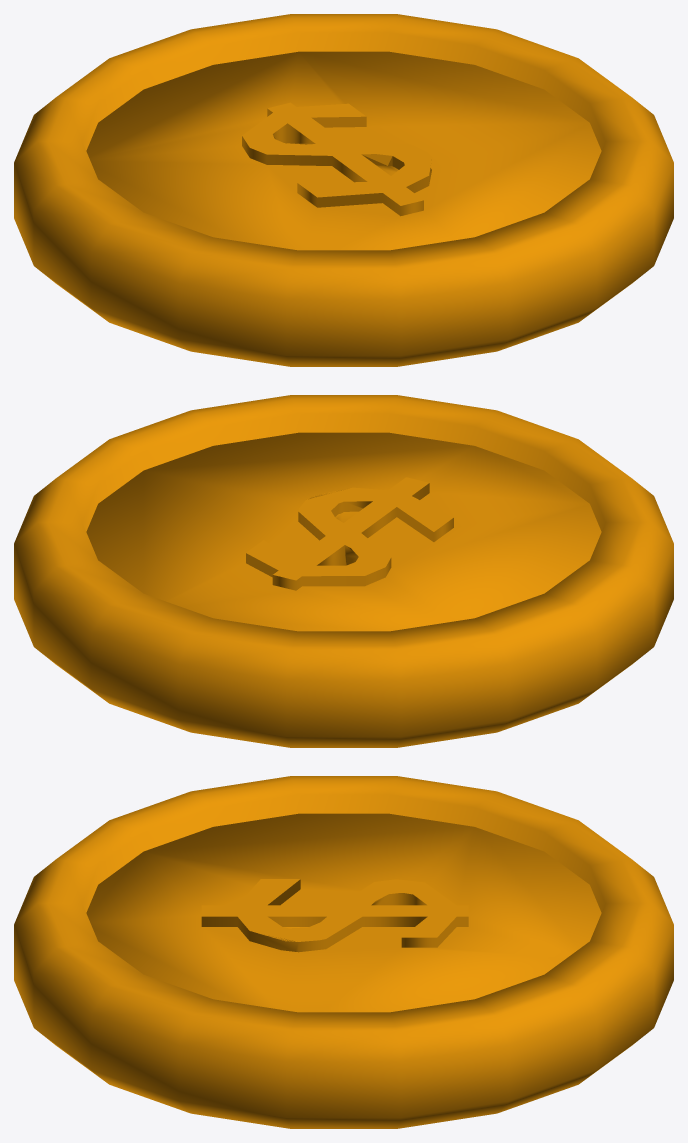
File: coin_New.glb
3 views of the same model, one above another, from view 1: azimuth 30°, elevation 25°; view 2: azimuth 150°, elevation 25°; view 3: azimuth 270°, elevation 25° (orthographic).
Visible parts, largest first — view 1: coin_New; view 2: coin_New; view 3: coin_New.
Part boxes in pixels (box(x1,y1,x2,y2)): coin_New: box(14, 14, 673, 366); coin_New: box(14, 395, 673, 747); coin_New: box(14, 776, 673, 1128).
Bounding box in the file's own units: 1.97 × 0.3276 × 2.
